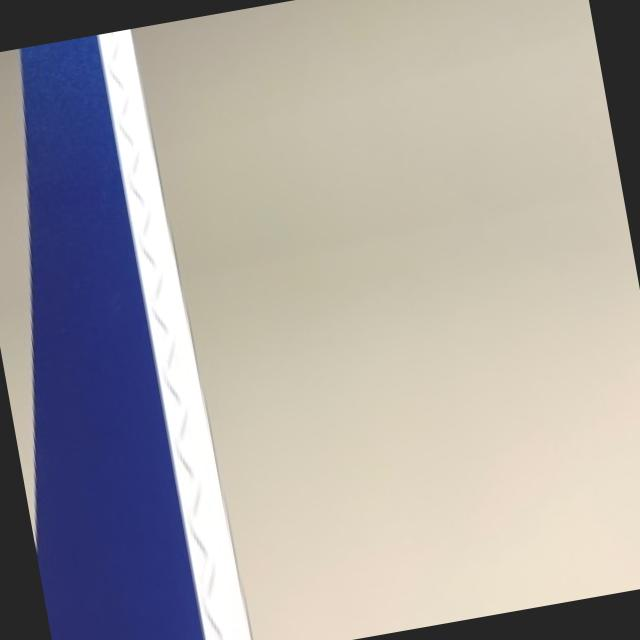healthy: (17, 29, 246, 640)
